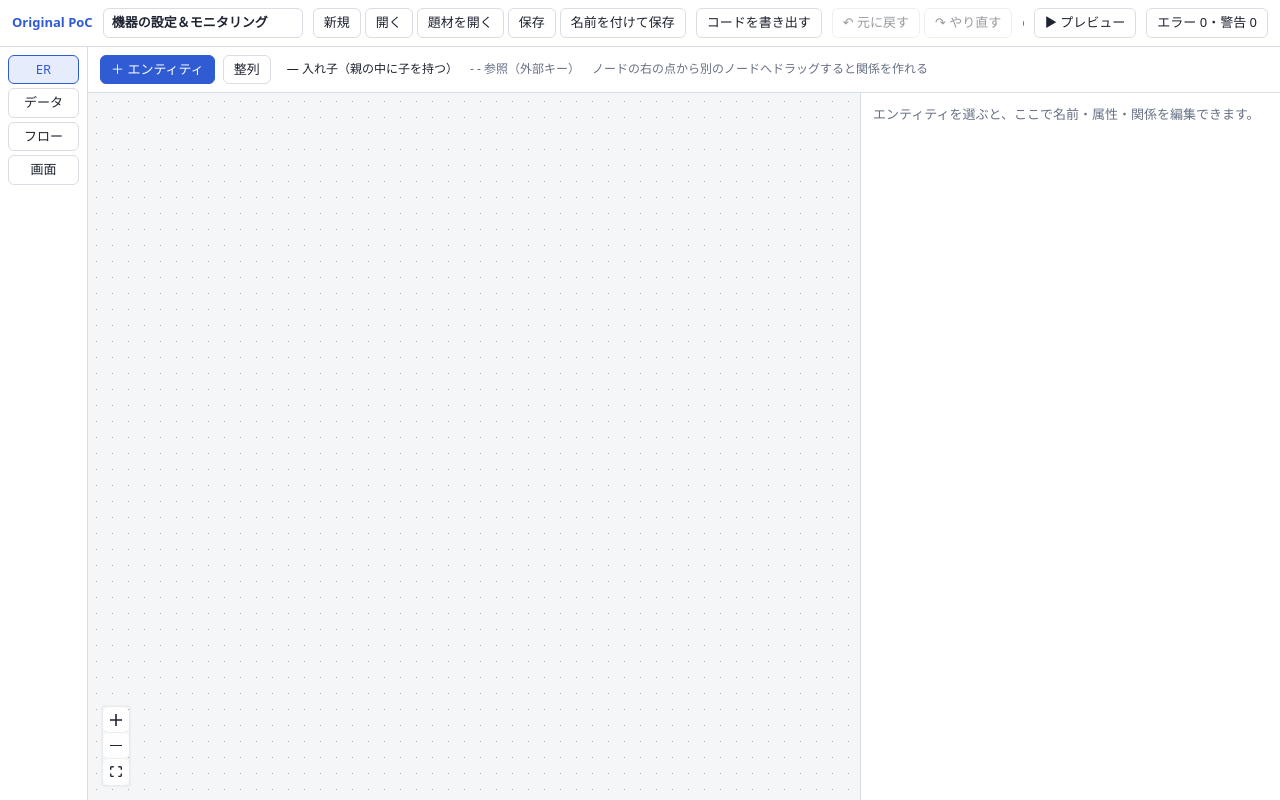
Test case: App › 題材を開いた状態で、ヘッダー・ビュー切替・検証の件数を出す
The width and height of the screenshot is (1280, 800).
Expected: the field named "プロジェクト名" holds "機器の設定＆モニタリング", left=103, top=8, right=303, bottom=38
Expected: the text "device-monitor.poc.json" is shown, left=1022, top=13, right=1024, bottom=32
Click the button "データ": (44, 103) left=8, top=88, right=79, bottom=118
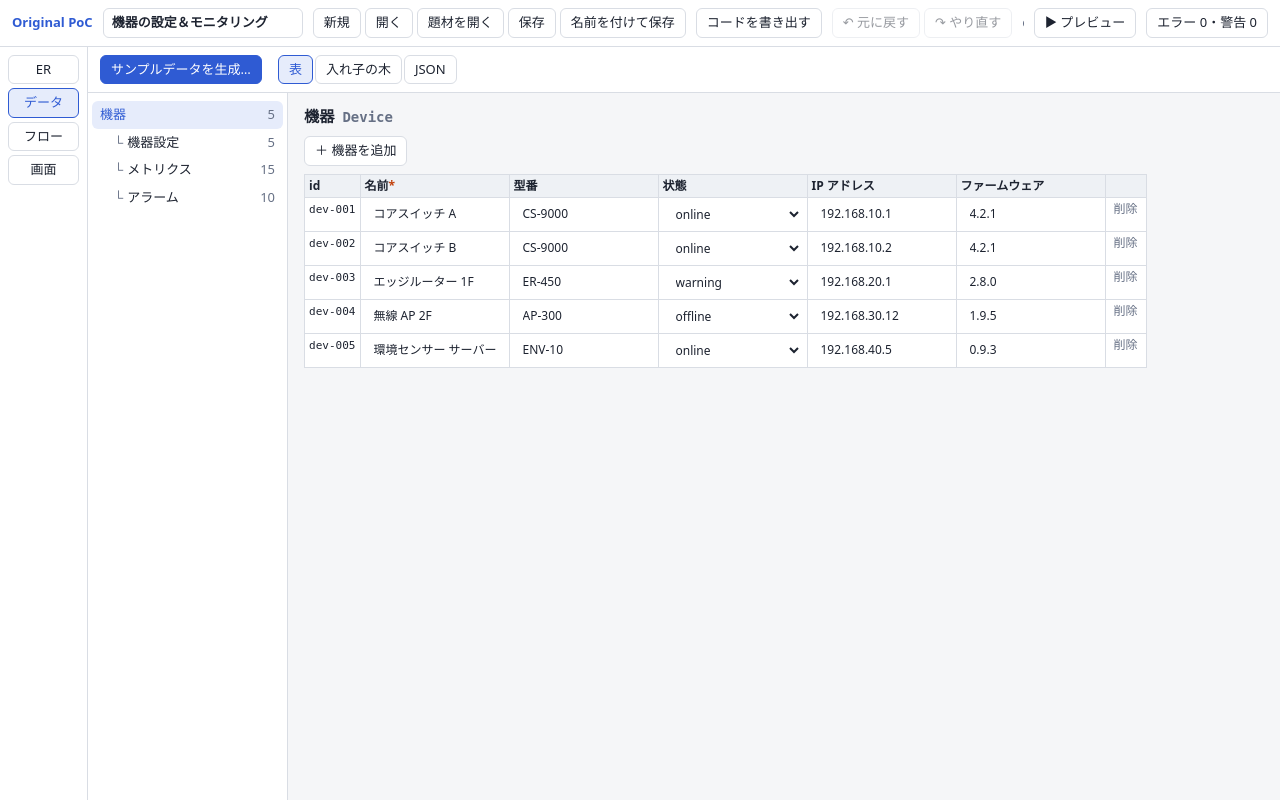
Now the table named "機器 のレコード" is shown, box left=304, top=174, right=1146, bottom=368
